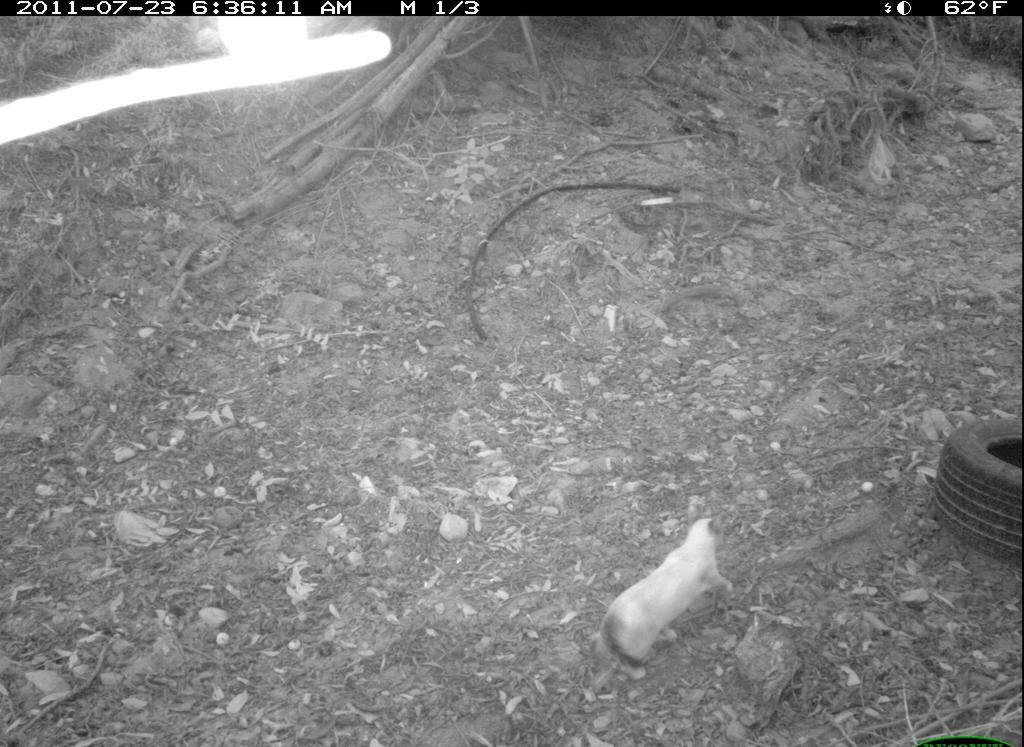cat: (592, 495, 747, 687)
